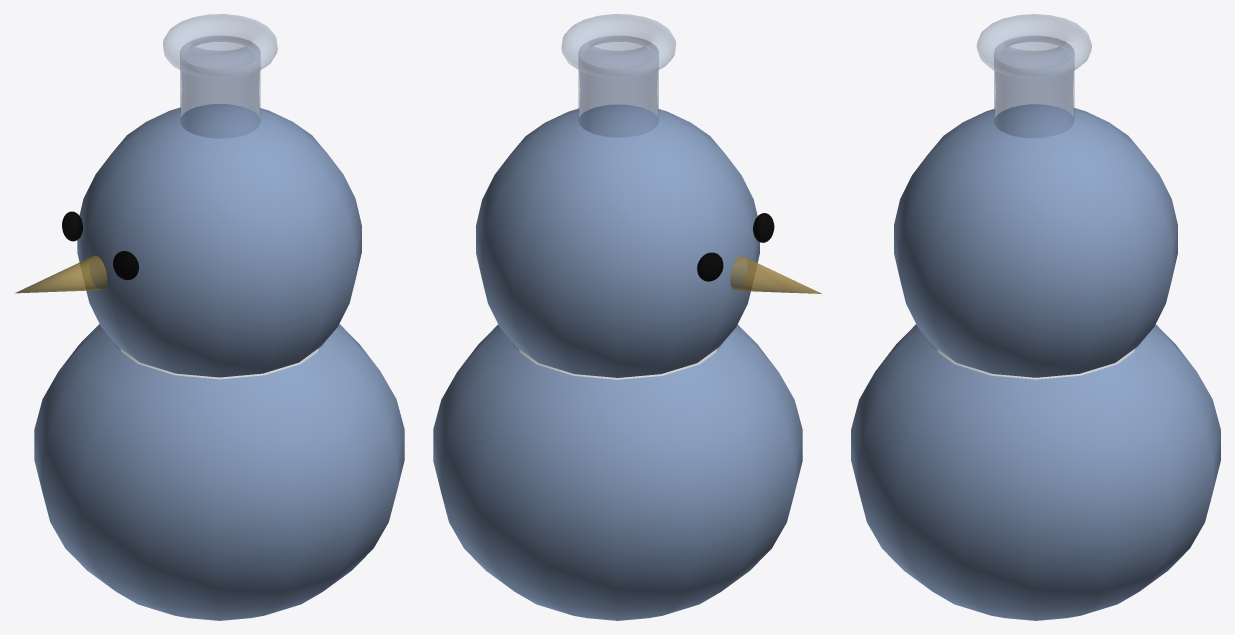
Rendered from IcePotion.fbx.
3 renders of one model, left to right at view 1: azimuth 30°, elevation 25°; view 2: azimuth 150°, elevation 25°; view 3: azimuth 270°, elevation 25°, orthographic.
Parts seen in each view (by area): view 1: polySurface20, polySurface17, polySurface22, polySurface19, polySurface15, polySurface12, polySurface18; view 2: polySurface20, polySurface17, polySurface22, polySurface19, polySurface15, polySurface13, polySurface18; view 3: polySurface20, polySurface17, polySurface22, polySurface19, polySurface18.
Part boxes in pixels (left/top/right/bottom): polySurface20: left=34, top=324, right=404, bottom=620; polySurface17: left=77, top=104, right=361, bottom=377; polySurface22: left=180, top=36, right=260, bottom=138; polySurface19: left=163, top=14, right=277, bottom=78; polySurface15: left=15, top=255, right=107, bottom=293; polySurface12: left=113, top=251, right=138, bottom=280; polySurface18: left=120, top=348, right=318, bottom=379; polySurface20: left=433, top=324, right=802, bottom=620; polySurface17: left=476, top=104, right=759, bottom=377; polySurface22: left=578, top=36, right=658, bottom=137; polySurface19: left=561, top=14, right=675, bottom=78; polySurface15: left=730, top=256, right=821, bottom=293; polySurface13: left=697, top=252, right=723, bottom=281; polySurface18: left=519, top=349, right=716, bottom=379; polySurface20: left=851, top=324, right=1220, bottom=620; polySurface17: left=894, top=104, right=1177, bottom=377; polySurface22: left=994, top=36, right=1074, bottom=137; polySurface19: left=977, top=14, right=1091, bottom=78; polySurface18: left=937, top=349, right=1134, bottom=379.
Bounding box in the file's own units: 4.83 × 7.16 × 4.22.
